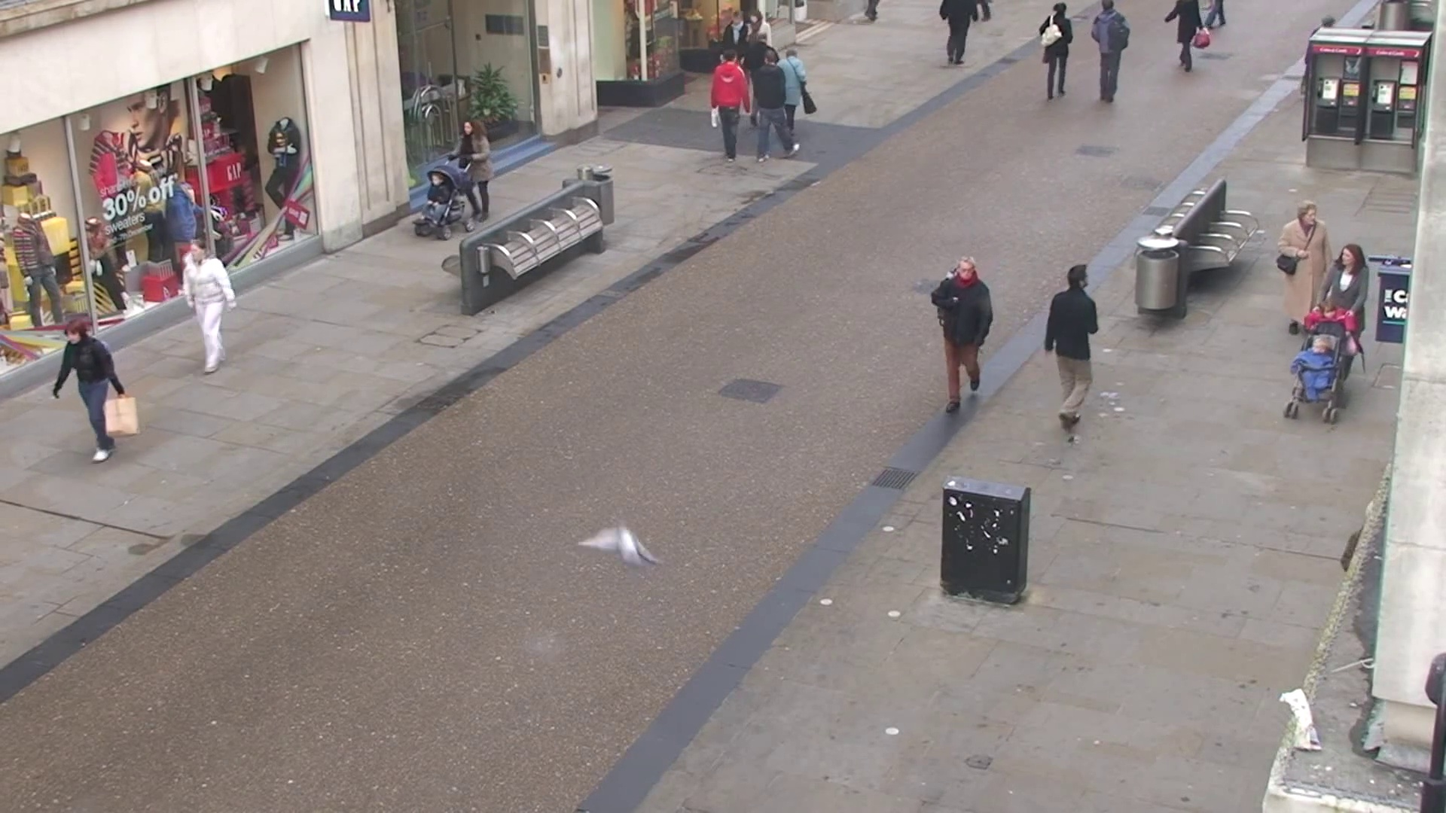person: (52, 315, 124, 462), (929, 257, 993, 411), (1046, 263, 1099, 438), (447, 105, 511, 233), (1274, 201, 1329, 336), (183, 242, 237, 374), (1320, 242, 1369, 360), (709, 50, 752, 163), (749, 46, 789, 159), (1091, 0, 1130, 102), (1039, 5, 1074, 102), (776, 45, 807, 154), (939, 3, 981, 66)
